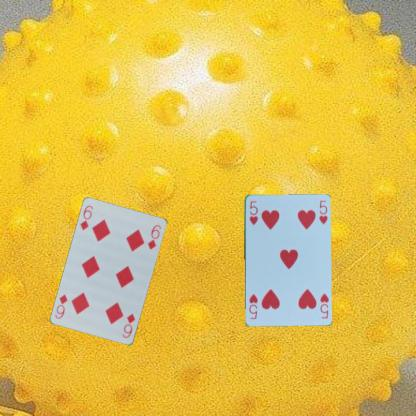5h: (317, 290, 330, 320), (247, 198, 259, 226)
6d: (77, 203, 94, 232), (120, 311, 136, 340)
